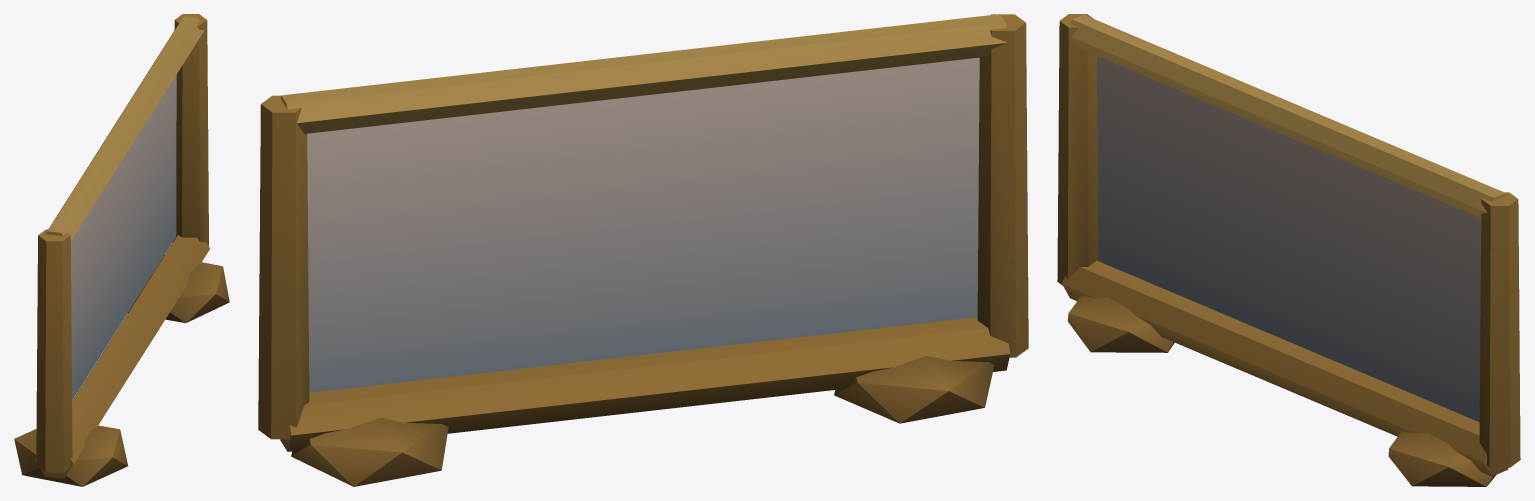
File: ruins-pc-mirror-low.glb
3 renders of one model, left to right at view 1: azimuth 30°, elevation 25°; view 2: azimuth 150°, elevation 25°; view 3: azimuth 270°, elevation 25°, orthographic. The views are drawn at different scales.
Visible parts, largest first — view 1: 0_ruins_pc_mirror, 1_glow; view 2: 1_glow, 0_ruins_pc_mirror; view 3: 1_glow, 0_ruins_pc_mirror.
Part boxes in pixels (left/top/right/bottom): 0_ruins_pc_mirror: left=14, top=14, right=229, bottom=486; 1_glow: left=71, top=75, right=176, bottom=400; 1_glow: left=307, top=57, right=979, bottom=392; 0_ruins_pc_mirror: left=258, top=14, right=1028, bottom=486; 1_glow: left=1097, top=56, right=1481, bottom=421; 0_ruins_pc_mirror: left=1057, top=14, right=1520, bottom=486.
Size of the model in its own units: 0.4448 by 0.3292 by 0.4501.
